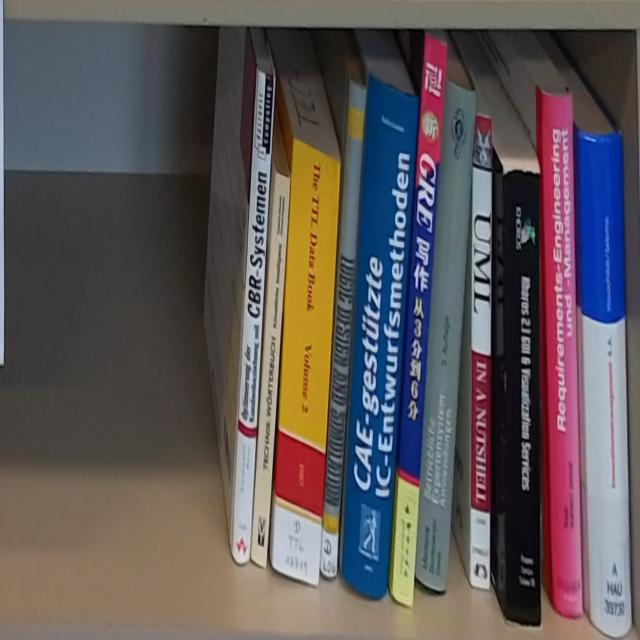Book Spine: (339, 63, 422, 600), (269, 135, 343, 592), (391, 34, 448, 611), (416, 79, 476, 594), (577, 128, 631, 640), (230, 65, 277, 568), (539, 86, 583, 619), (322, 78, 367, 575), (504, 169, 541, 625), (252, 165, 292, 571), (471, 114, 493, 591)
